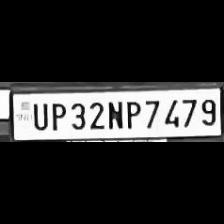2: (86, 98, 106, 130)
3: (67, 98, 85, 130)
4: (159, 96, 179, 128)
7: (142, 97, 160, 129), (180, 96, 196, 128)
9: (197, 96, 217, 128)
N: (105, 98, 123, 130)
P: (47, 99, 66, 130), (123, 97, 141, 129)
U: (28, 99, 46, 130)
